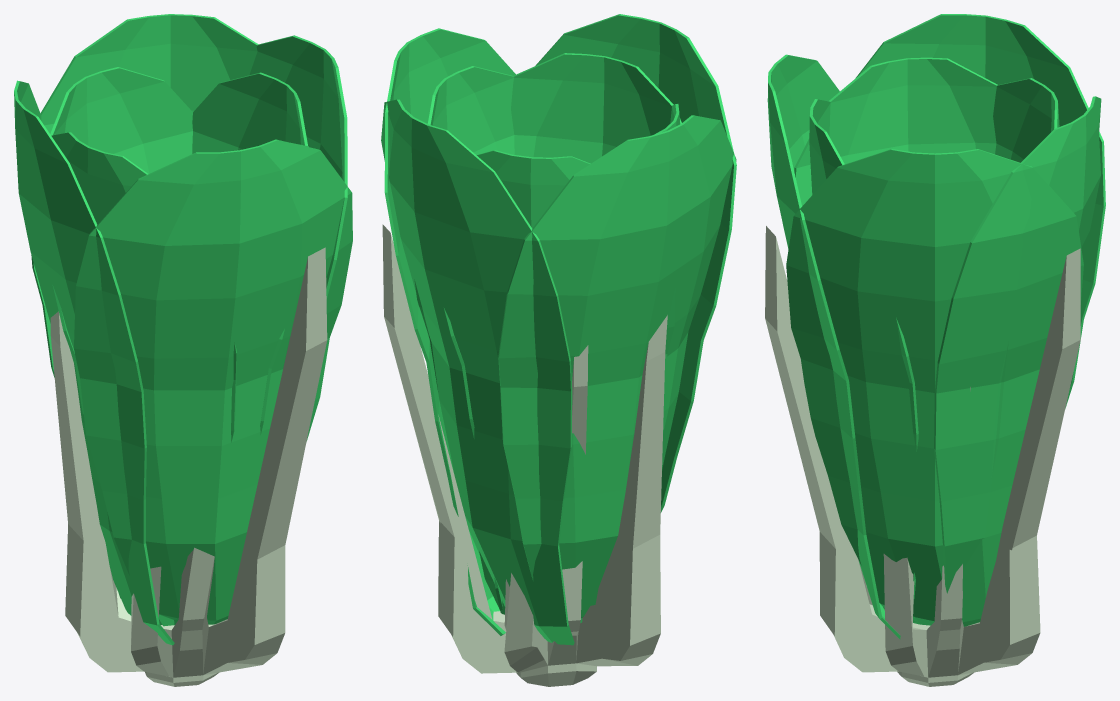
The model's file is lettuce.fbx.
3 renders of one model, left to right at view 1: azimuth 30°, elevation 25°; view 2: azimuth 150°, elevation 25°; view 3: azimuth 270°, elevation 25°, orthographic.
Visible parts, largest first — view 1: Plane, Cylinder, Plane.001; view 2: Plane, Cylinder, Plane.001; view 3: Plane, Cylinder, Plane.001.
Boxes of the visible parts, x1=… form: Plane: x1=14, y1=14, x2=352, y2=645; Cylinder: x1=50, y1=247, x2=327, y2=686; Plane.001: x1=50, y1=67, x2=308, y2=626; Plane: x1=381, y1=14, x2=736, y2=645; Cylinder: x1=382, y1=224, x2=667, y2=686; Plane.001: x1=414, y1=53, x2=681, y2=622; Plane: x1=767, y1=14, x2=1105, y2=639; Cylinder: x1=765, y1=226, x2=1080, y2=686; Plane.001: x1=794, y1=57, x2=1059, y2=621.
Bounding box in the file's own units: 114 × 216 × 113.
